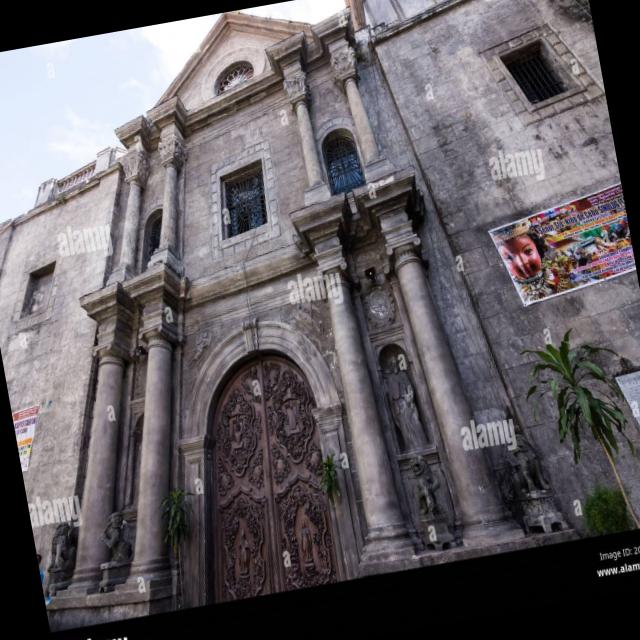San Agustin Church: (0, 0, 640, 631)
